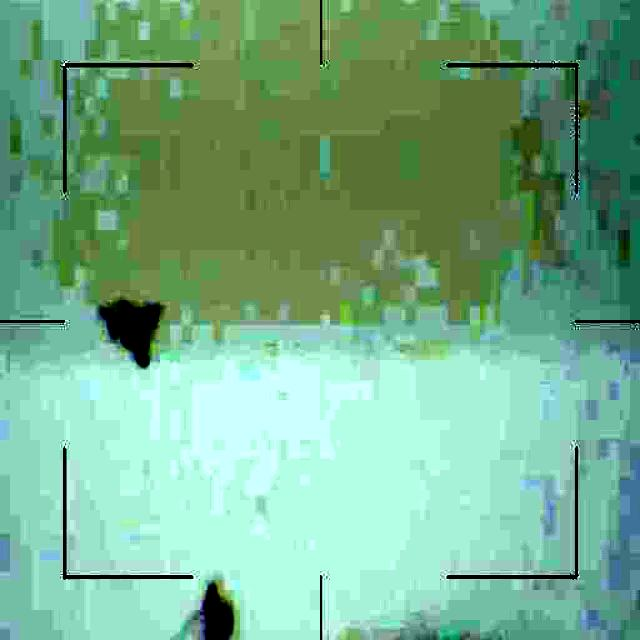bird: (106, 299, 168, 360)
